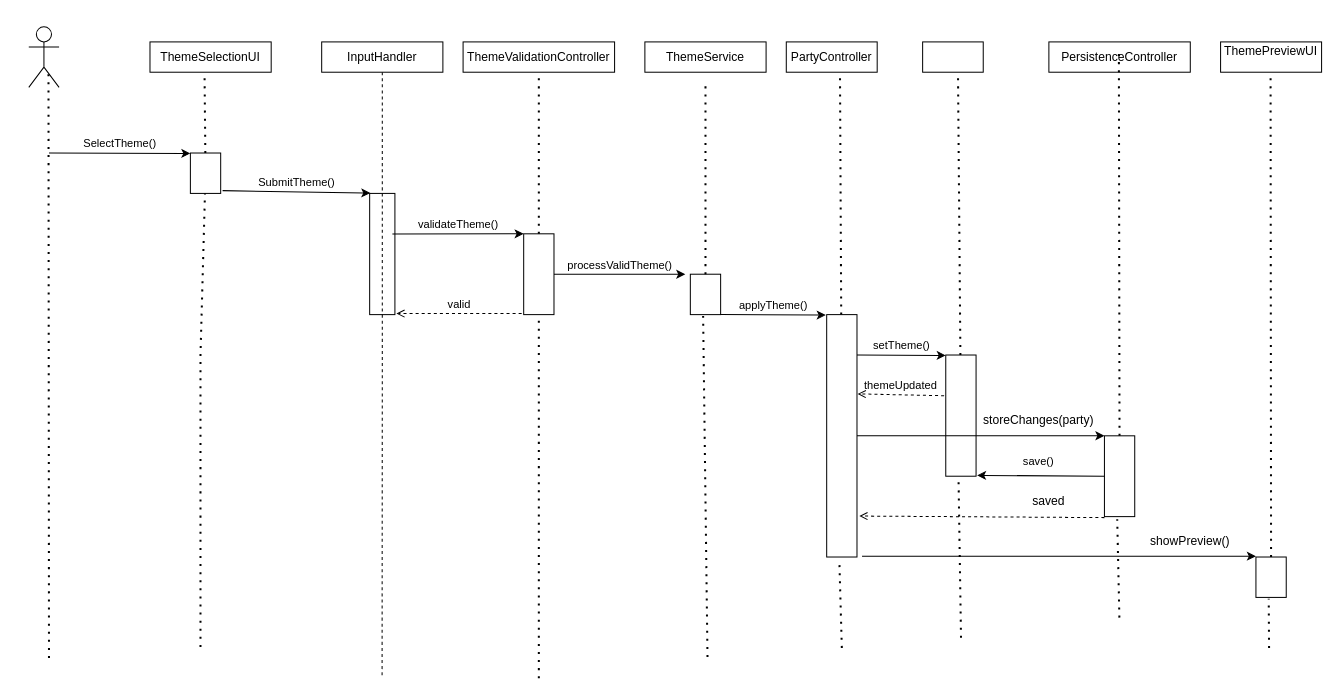
Some shapes in this 1339 by 698 pixel diagram are drawn without their labels. The centre of each missing label's shape, as x and y in pixels:
"Party" belongs at (952,56).
"PartyHost" belongs at (43,56).
